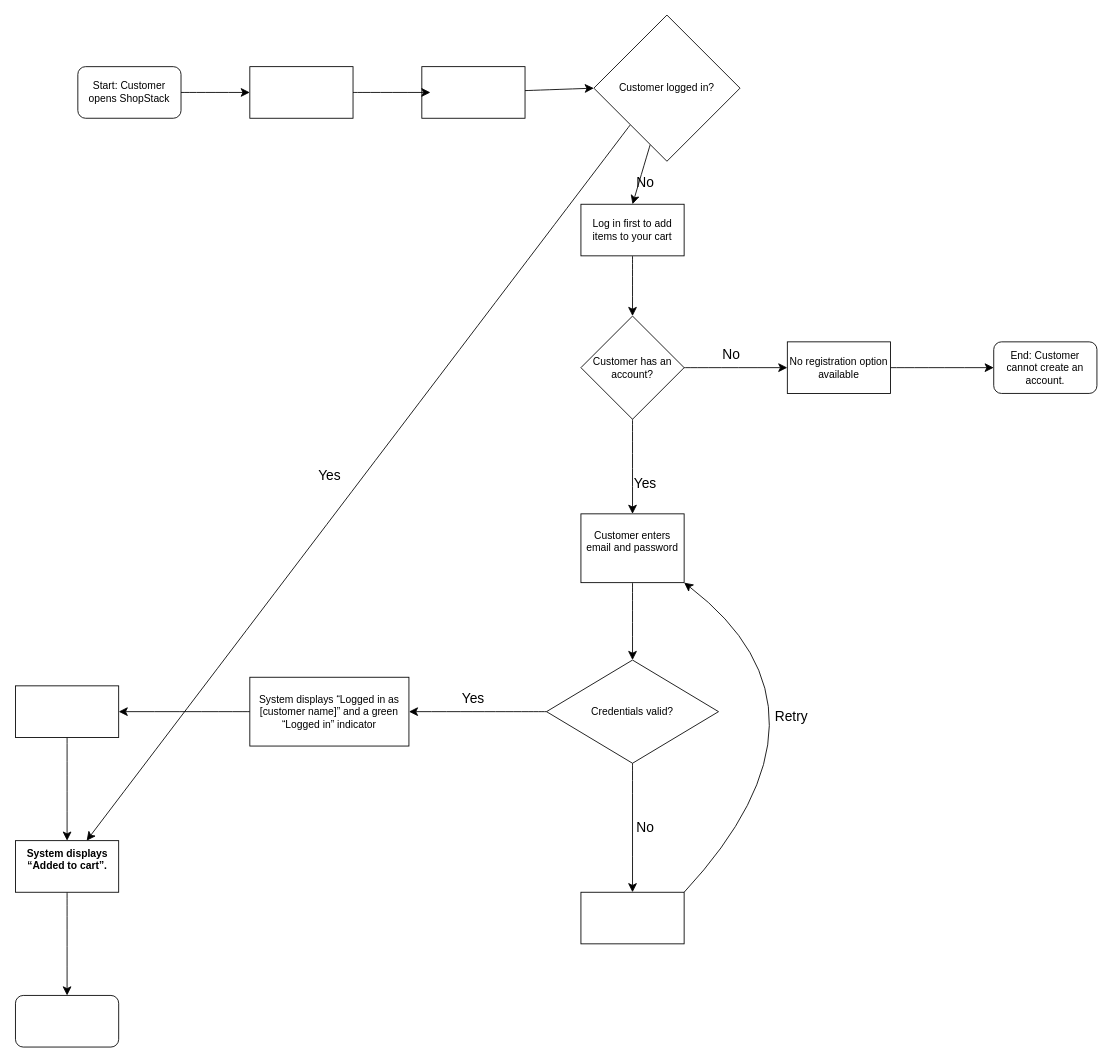
Image size: 1112x1062. Some labels were removed from this diagram. Here are the shapes that lost their labels. From the top down, the centre of each, then its label:
At (301,92): "System displays products, prices, Add to cart buttons, and login form".
At (473,92): "Customer browses products and clicks Add to cart".
At (67,711): "Customer clicks Add to cart.".
At (632,917): "System displays “Login failed”".
At (67,1021): "Journey stops: No cart review or checkout available.".
